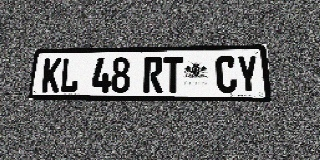4: (92, 57, 112, 93)
8: (111, 57, 131, 93)
C: (215, 55, 237, 93)
K: (41, 58, 62, 93)
L: (59, 58, 80, 93)
R: (143, 57, 163, 93)
T: (163, 56, 183, 93)
Y: (236, 55, 259, 93)
